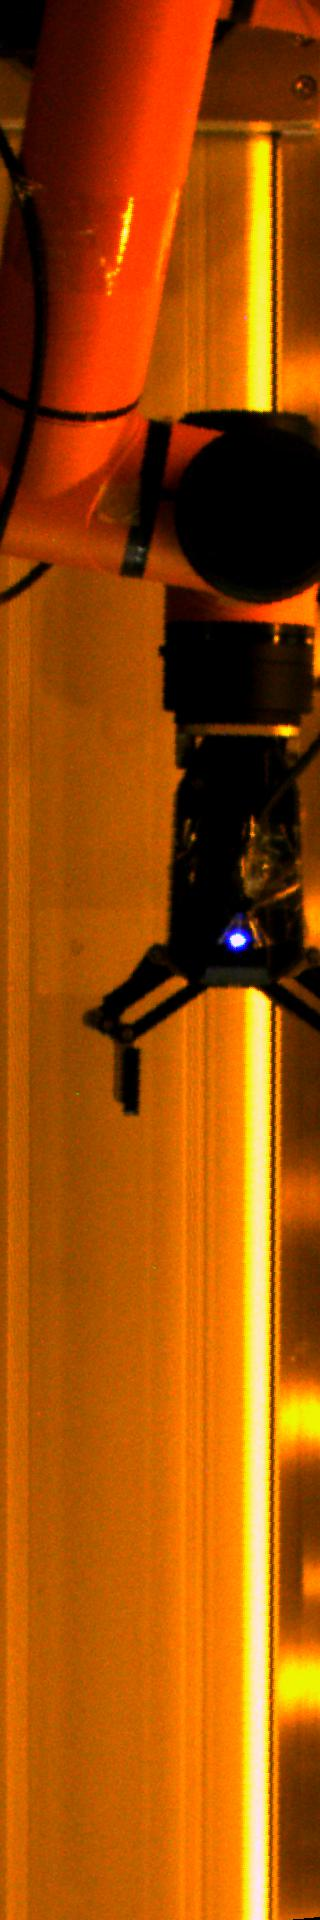keyPoint_1: (223, 924, 253, 954)
